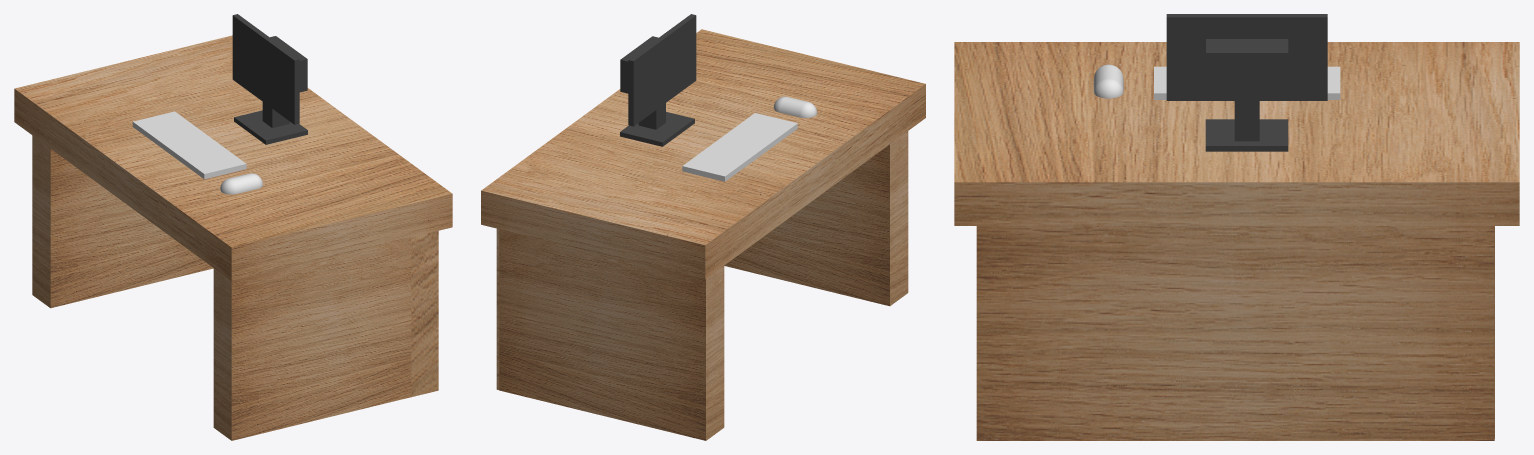
File: desk.fbx
3 renders of one model, left to right at view 1: azimuth 30°, elevation 25°; view 2: azimuth 150°, elevation 25°; view 3: azimuth 270°, elevation 25°, orthographic. The views are drawn at different scales.
Visible parts, largest first — view 1: pCube13, pCube11, pCube12, pCube19, pCube14, pCube15, pCube16, pCylinder6, pCube18; view 2: pCube13, pCube12, pCube11, pCube19, pCube15, pCube16, pCylinder6, pCube14, pCube18; view 3: pCube14, pCube13, pCube19, pCube18, pCube16, pCube17, pCylinder6, pCube15.
Part boxes in pixels (<box>): pCube13: <box>14,35,452,280</box>; pCube11: <box>213,237,411,440</box>; pCube12: <box>32,135,213,308</box>; pCube19: <box>232,14,299,124</box>; pCube14: <box>411,231,438,397</box>; pCube15: <box>132,111,246,179</box>; pCube16: <box>234,110,307,144</box>; pCylinder6: <box>220,173,262,194</box>; pCube18: <box>270,36,307,92</box>; pCube13: <box>481,29,925,279</box>; pCube12: <box>499,229,724,440</box>; pCube11: <box>724,131,908,306</box>; pCube19: <box>628,14,696,126</box>; pCube15: <box>682,113,797,181</box>; pCube16: <box>620,112,694,146</box>; pCylinder6: <box>773,96,817,118</box>; pCube14: <box>496,228,499,389</box>; pCube18: <box>620,36,658,93</box>; pCube14: <box>976,226,1494,440</box>; pCube13: <box>954,42,1519,225</box>; pCube19: <box>1166,14,1327,100</box>; pCube18: <box>1206,39,1288,94</box>; pCube16: <box>1205,119,1288,151</box>; pCube17: <box>1234,94,1259,141</box>; pCylinder6: <box>1093,64,1123,98</box>; pCube15: <box>1154,66,1340,99</box>.
Bounding box in the file's own units: 7.07 × 8.99 × 12.05.
